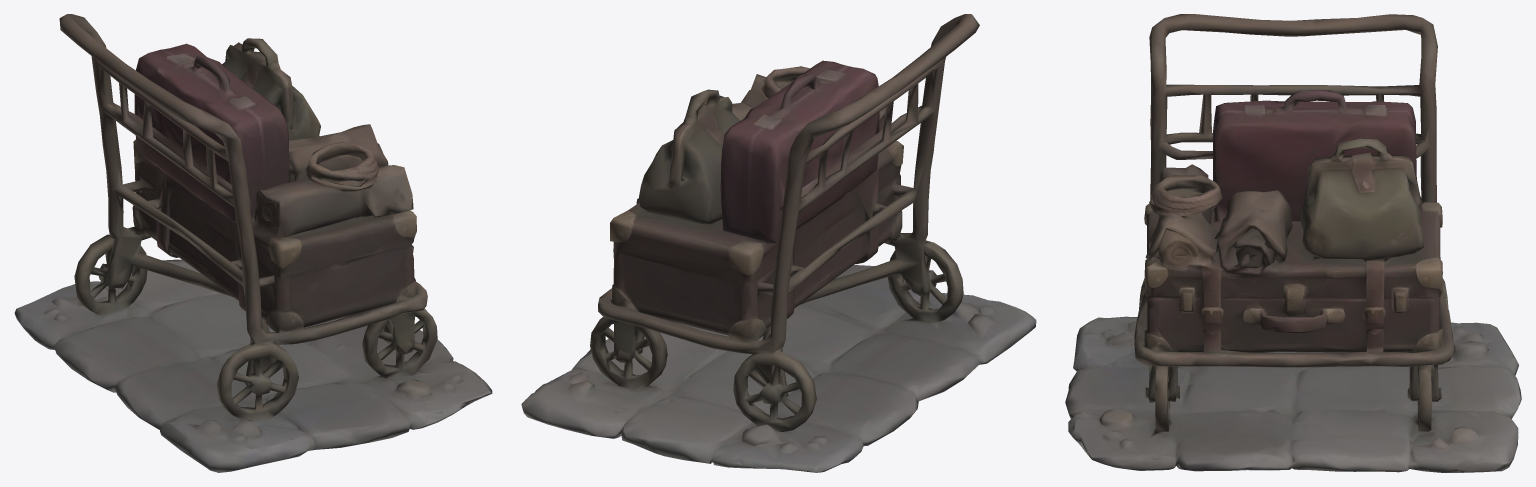
Rendered from airport_trolley.glb.
The picture shows the model from 3 angles, left to right: view 1: azimuth 30°, elevation 25°; view 2: azimuth 150°, elevation 25°; view 3: azimuth 270°, elevation 25°; orthographic projection. The views are drawn at different scales.
Parts seen in each view (by area): view 1: tripo_node_4493602b-a5cf-4497-b2ba-f134559e8404; view 2: tripo_node_4493602b-a5cf-4497-b2ba-f134559e8404; view 3: tripo_node_4493602b-a5cf-4497-b2ba-f134559e8404.
Boxes of the visible parts, left/top/right/bottom form: tripo_node_4493602b-a5cf-4497-b2ba-f134559e8404: left=14, top=14, right=492, bottom=472; tripo_node_4493602b-a5cf-4497-b2ba-f134559e8404: left=521, top=14, right=1036, bottom=472; tripo_node_4493602b-a5cf-4497-b2ba-f134559e8404: left=1065, top=14, right=1521, bottom=472.
Bounding box in the file's own units: 0.7519 × 0.79 × 1.
Materials: 1 (1 with a texture image).
